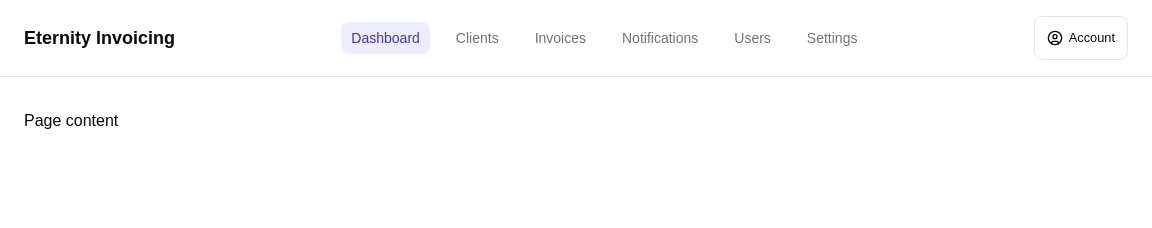
it: AppShell's BusinessSwitcher › renders the populated state with the other membership(s) listed
The width and height of the screenshot is (1152, 228).
Click the button "Account". click: (1081, 38)
box: [1034, 16, 1128, 60]
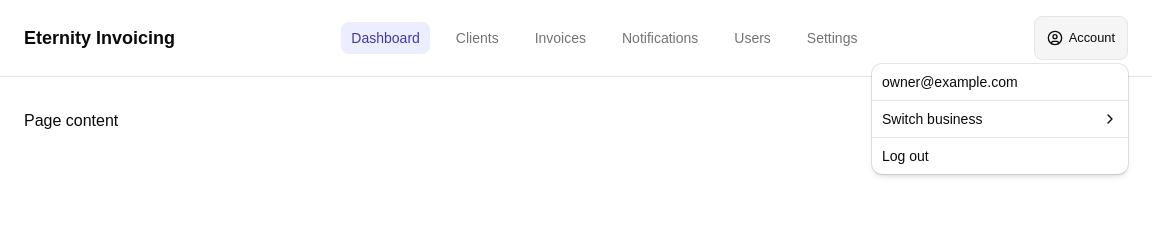
Click the menu item "Switch business". click: (932, 119)
box: [882, 111, 1118, 127]
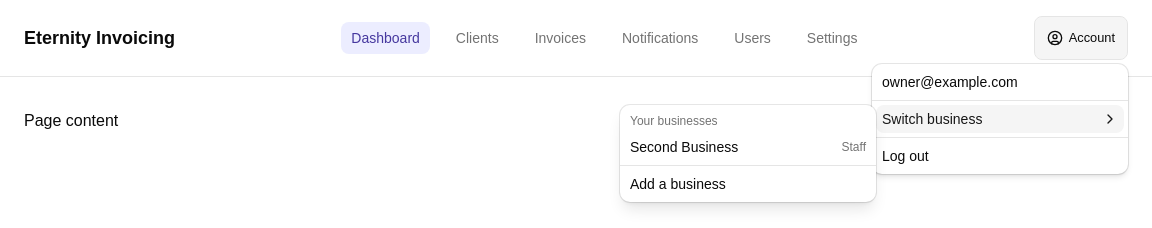
Now the text "Second Business" is shown, box [630, 137, 738, 157]
Now the text "Staff" is shown, box [842, 139, 866, 155]
